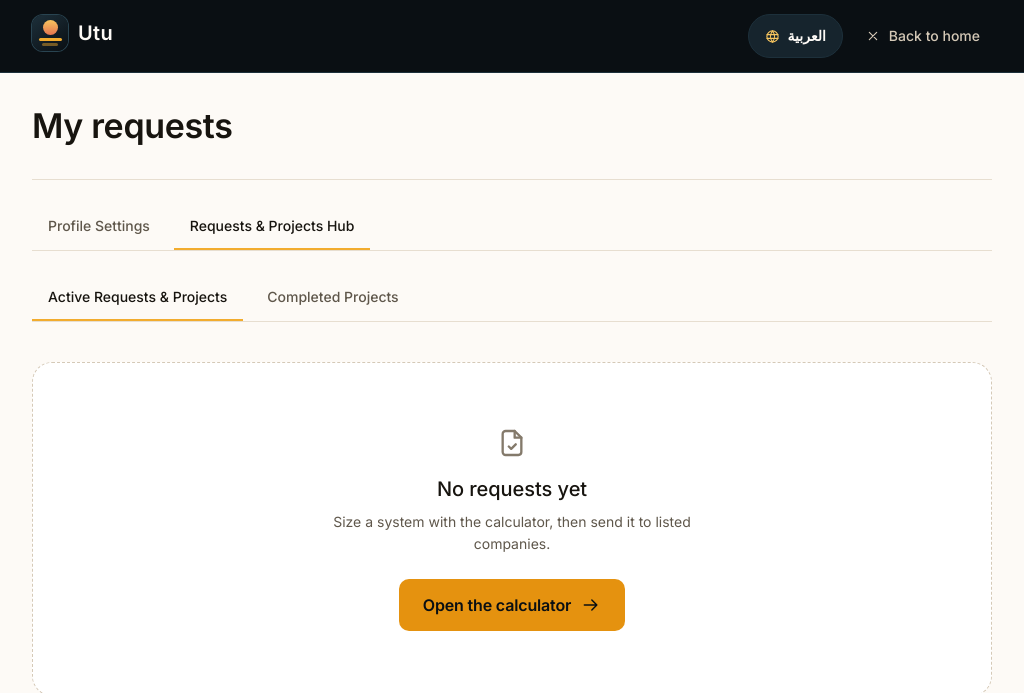
MyRequestsPage review eligibility › loads and updates an existing review for the authenticated request owner
Step 1. Click the tab "Completed Projects" → (333, 298), box [251,275,415,321]
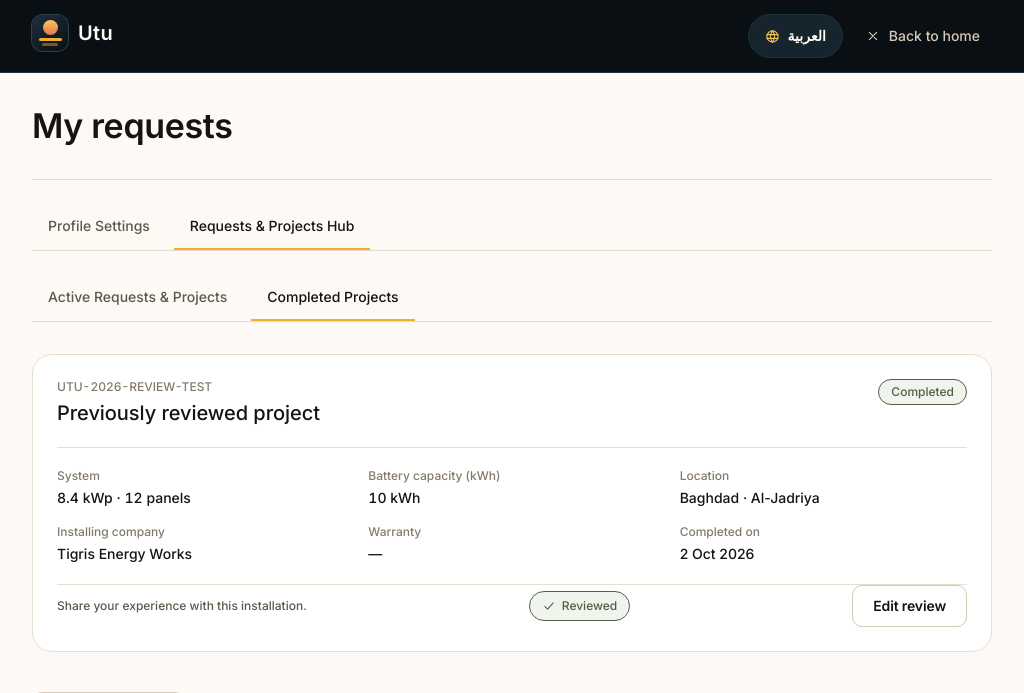
Step 2. Click the button "Edit review" → (910, 606), box [852,585,967,627]
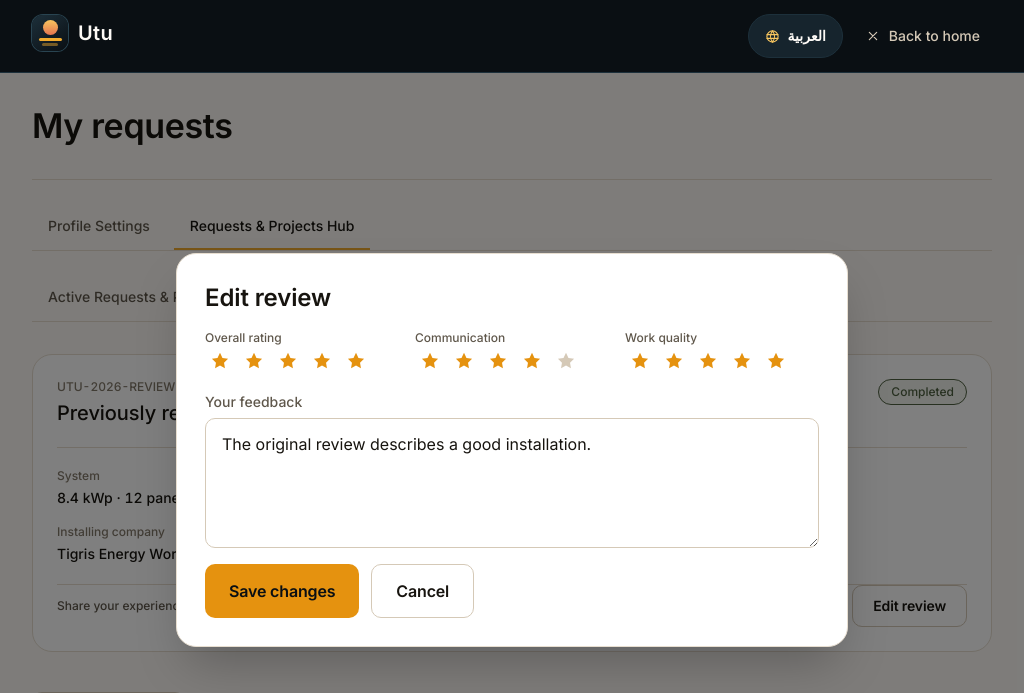
Expected: the text box labelled "Your feedback" holds "The original review describes a good installation."
Step 3. Replace the text in the text box labelled "Your feedback" with "Updated review with useful installation details." → (512, 482), box [205,418,819,548]
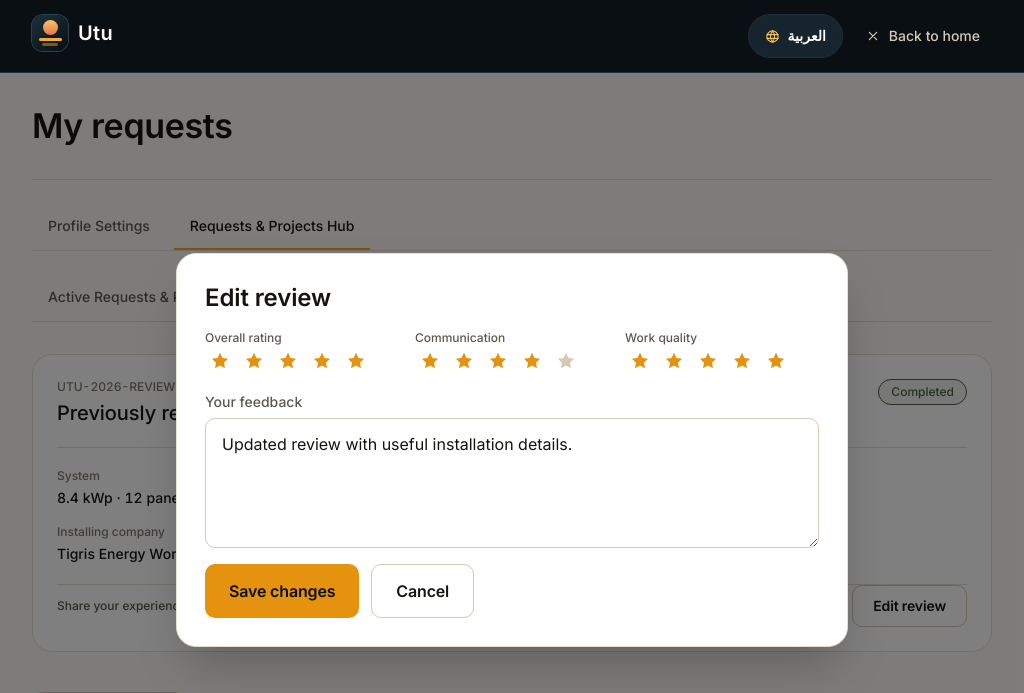
Step 4. Click the button named "Overall rating: 3 out of 5" → (288, 360), box [273,346,303,376]
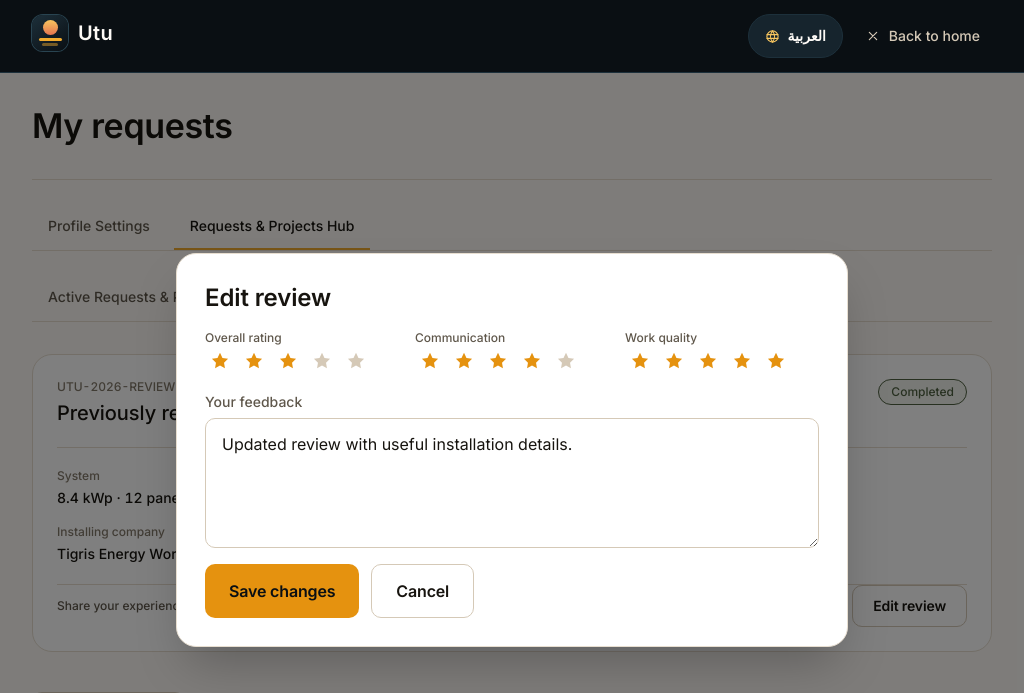
Step 5. Click the button "Save changes" → (282, 590), box [205,564,359,618]
(page scrolled)
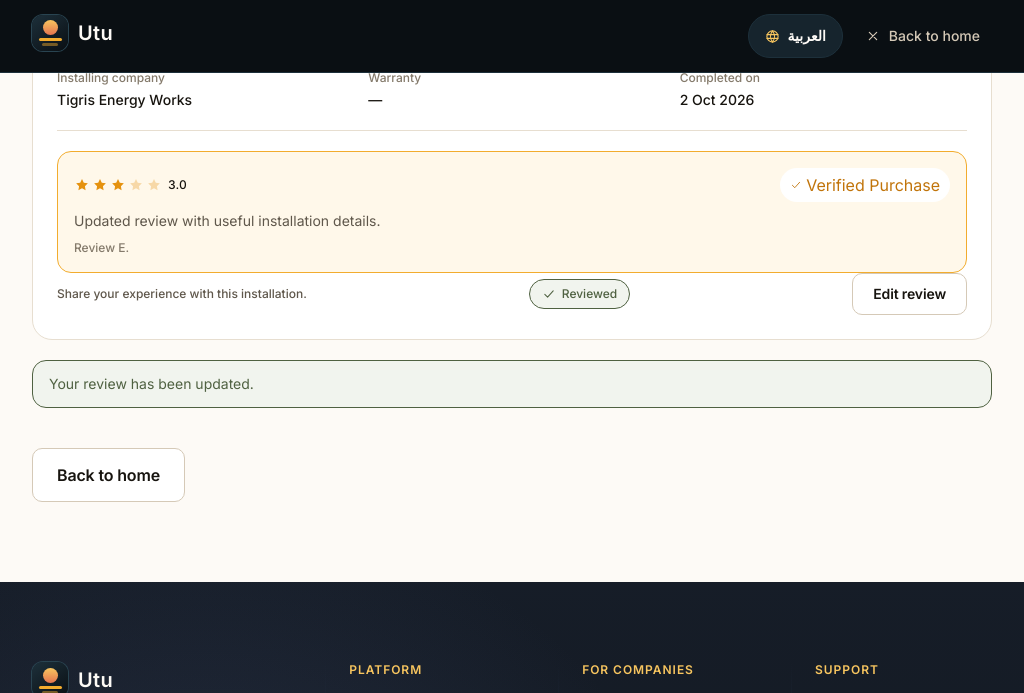
Expected: the text "Your review has been updated." is shown, [32,360,992,408]
